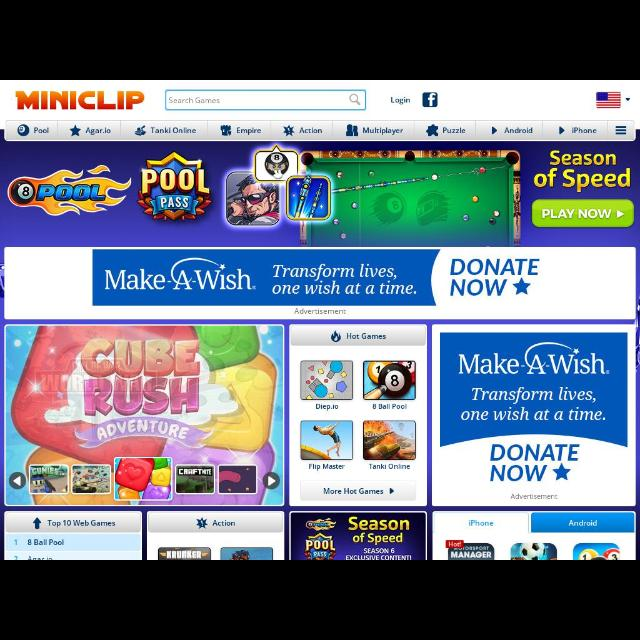backgroundimage: (1, 142, 638, 246)
icon: (70, 124, 82, 138), (426, 124, 439, 136), (347, 124, 359, 136), (220, 124, 232, 136), (135, 124, 147, 136), (18, 124, 30, 136), (283, 125, 295, 136), (350, 93, 360, 105), (196, 518, 208, 528), (332, 330, 341, 342), (615, 126, 627, 134), (616, 210, 626, 218), (33, 518, 41, 528), (492, 126, 498, 134), (560, 126, 564, 134), (390, 488, 394, 494), (626, 98, 630, 100)
iframe: (4, 247, 636, 320), (433, 324, 637, 508)
image: (4, 324, 286, 506), (440, 332, 628, 486), (92, 248, 544, 306), (292, 512, 426, 560), (15, 90, 144, 110), (301, 360, 353, 400), (364, 360, 416, 400), (364, 420, 416, 460), (301, 420, 353, 460), (445, 540, 495, 558), (511, 542, 557, 560), (221, 547, 273, 559), (158, 548, 212, 556), (596, 92, 620, 108), (422, 92, 438, 108)
input: (166, 89, 367, 111)
multitab: (5, 120, 635, 140), (434, 512, 636, 534)
panel: (289, 325, 427, 507), (148, 512, 284, 558)
text: (534, 151, 630, 195), (542, 208, 612, 220), (48, 520, 116, 528), (362, 126, 403, 136), (150, 126, 196, 134), (324, 488, 384, 494), (347, 332, 387, 340), (168, 97, 220, 103), (294, 308, 346, 314), (309, 463, 345, 471), (510, 493, 558, 499), (236, 126, 262, 136), (368, 463, 410, 469), (504, 126, 534, 134), (27, 539, 64, 545), (572, 126, 598, 134), (468, 519, 494, 527), (373, 403, 407, 409), (86, 127, 110, 135), (442, 126, 466, 134), (316, 403, 338, 411), (569, 520, 597, 526), (392, 96, 411, 104), (212, 520, 235, 526), (300, 128, 322, 134), (34, 127, 50, 133), (14, 540, 18, 546)
textbutton: (5, 512, 140, 534), (532, 199, 634, 227), (290, 326, 426, 346), (149, 514, 283, 532), (300, 481, 416, 501)
toolbar: (1, 82, 639, 128)
